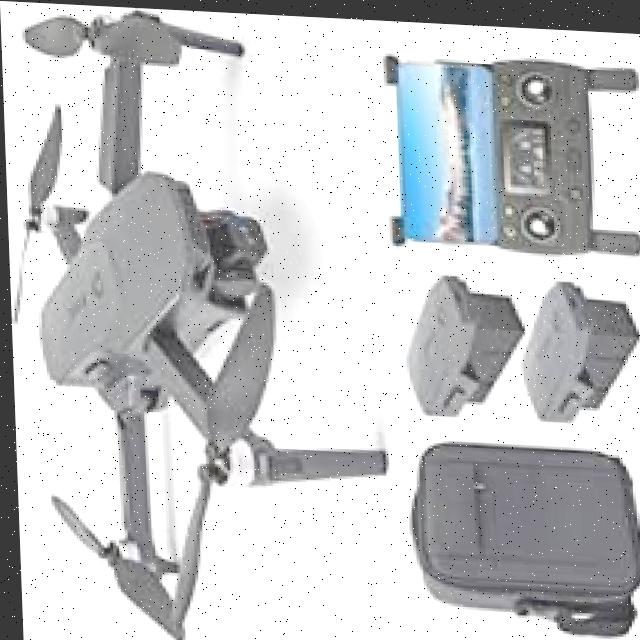drone: (0, 0, 395, 640)
